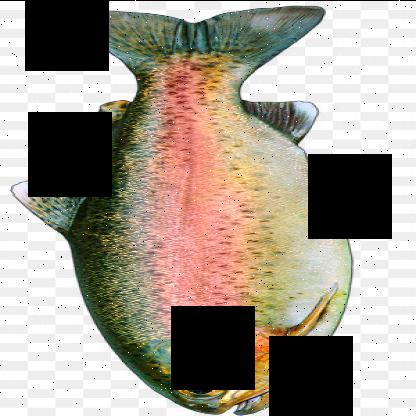fish: (23, 3, 350, 415)
